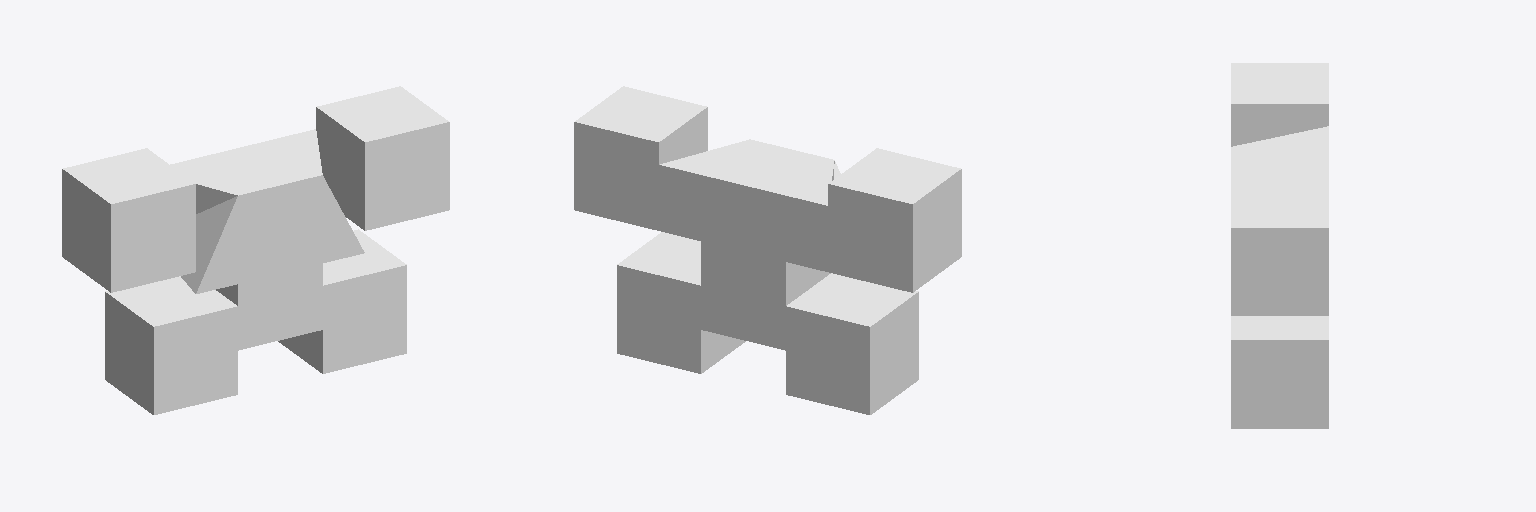
File: trivotoms1.obj
3 renders of one model, left to right at view 1: azimuth 30°, elevation 25°; view 2: azimuth 150°, elevation 25°; view 3: azimuth 270°, elevation 25°, orthographic.
Visible parts, largest first — view 1: votom1; view 2: votom1; view 3: votom1.
Boxes of the visible parts, <box> form: votom1: <box>62,86,449,414</box>; votom1: <box>574,86,961,414</box>; votom1: <box>1231,63,1328,428</box>.
Size of the model in its own units: 4 by 2.5 by 1.